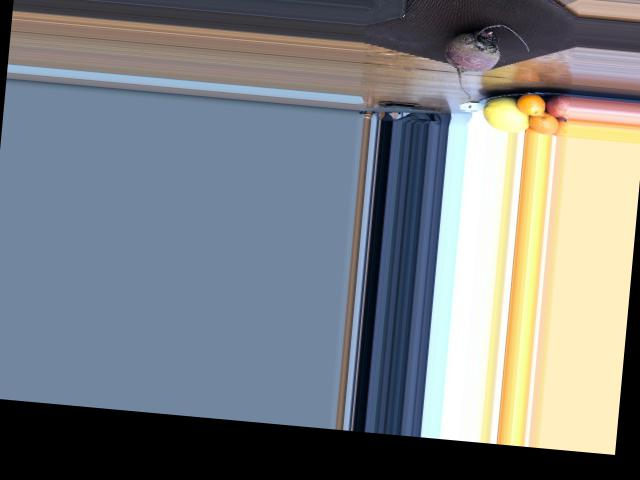beet: (441, 19, 531, 100)
